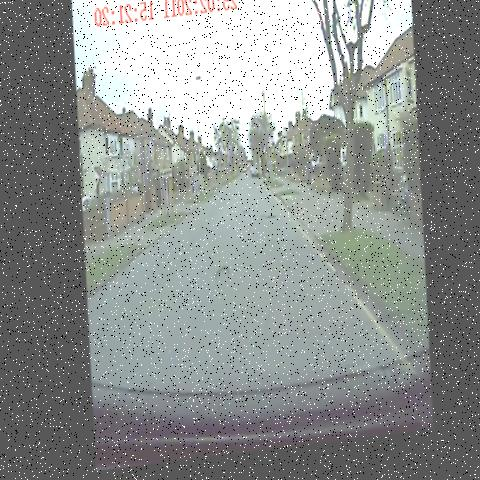pothole: (209, 258, 230, 296), (258, 210, 276, 234), (239, 204, 251, 224)
